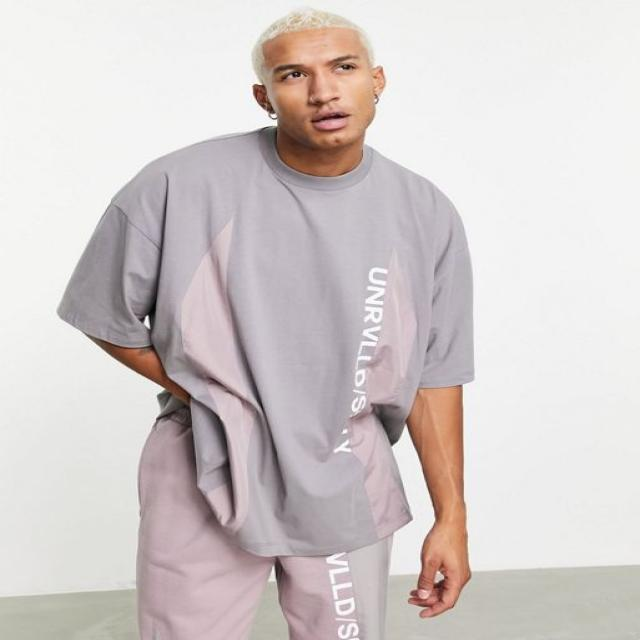tshirt: (59, 127, 478, 555)
